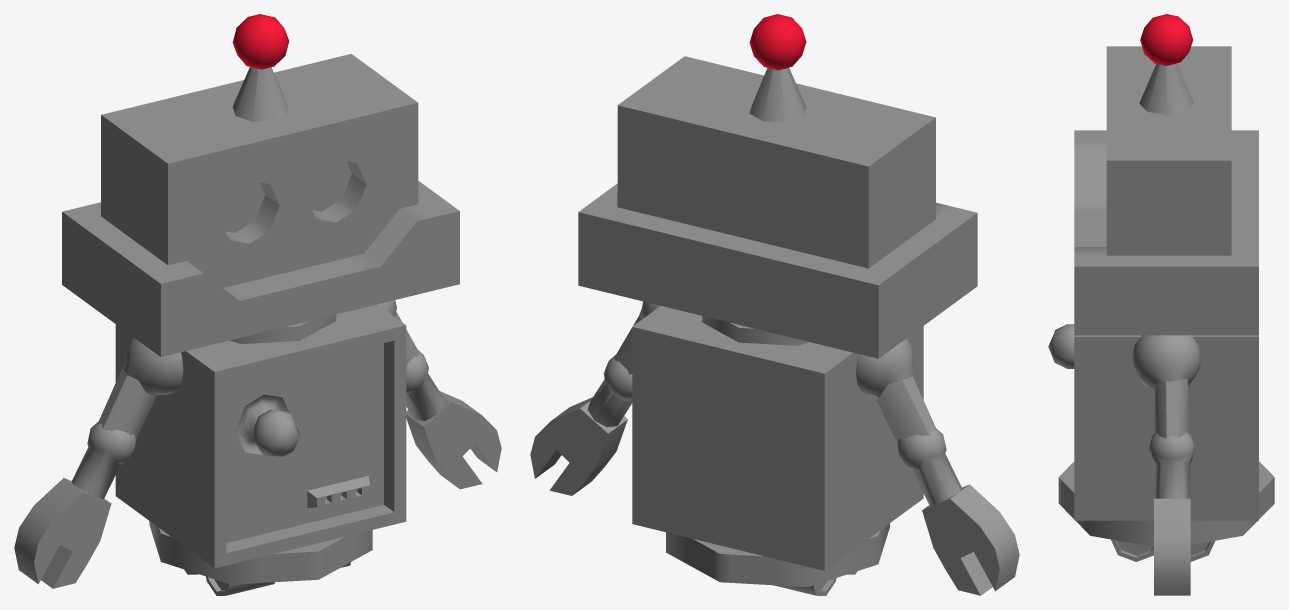
File: Robot.FBX
3 views of the same model, side by side, from view 1: azimuth 30°, elevation 25°; view 2: azimuth 150°, elevation 25°; view 3: azimuth 270°, elevation 25° (orthographic). The views are drawn at different scales.
Visible parts, largest first — view 1: Head, Body, RightArm2, LeftHand, RotaringPlateform, RightArm, Receiver, Antenna, Neck; view 2: Head, Body, RightArm2, LeftHand, RotaringPlateform, RightArm, Receiver, Antenna, Neck, LeftArm; view 3: Head, Body, LeftHand, LeftArm, RotaringPlateform, Receiver, Antenna, Wheel001, Wheel002.
Part boxes in pixels (x1,y1,x2,y2): Head: [62, 54, 459, 356]; Body: [115, 304, 406, 568]; RightArm2: [14, 421, 136, 588]; LeftHand: [406, 350, 501, 489]; RotaringPlateform: [149, 521, 372, 584]; RightArm: [97, 336, 183, 439]; Receiver: [232, 14, 289, 69]; Antenna: [232, 67, 289, 121]; Neck: [229, 314, 336, 344]; Head: [578, 56, 977, 358]; Body: [632, 306, 923, 570]; RightArm2: [897, 428, 1019, 595]; LeftHand: [530, 354, 632, 495]; RotaringPlateform: [666, 523, 889, 587]; RightArm: [856, 338, 936, 442]; Receiver: [749, 14, 806, 70]; Antenna: [749, 67, 806, 122]; Neck: [702, 316, 809, 345]; LeftArm: [613, 301, 660, 374]; Head: [1074, 46, 1258, 335]; Body: [1048, 324, 1258, 520]; LeftHand: [1148, 432, 1195, 595]; LeftArm: [1132, 335, 1201, 438]; RotaringPlateform: [1058, 461, 1274, 546]; Receiver: [1140, 14, 1192, 65]; Antenna: [1139, 63, 1193, 114]; Wheel001: [1111, 539, 1153, 561]; Wheel002: [1190, 541, 1214, 561].
Size of the model in its own units: 61.82 by 69.86 by 27.73.
